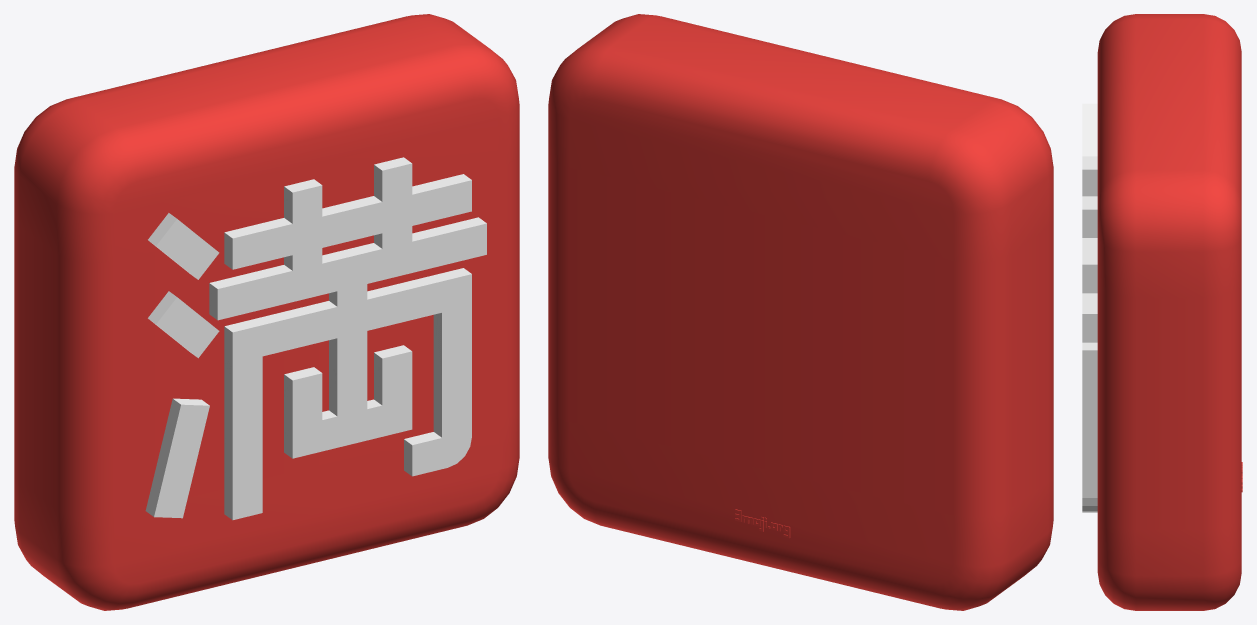
File: japanese_no_vacancy_button.gltf
The picture shows the model from 3 angles, left to right: view 1: azimuth 30°, elevation 25°; view 2: azimuth 150°, elevation 25°; view 3: azimuth 270°, elevation 25°; orthographic projection. The views are drawn at different scales.
Visible parts, largest first — view 1: Cube.6661; view 2: Cube.6661; view 3: Cube.6661.
Part boxes in pixels (<box>): Cube.6661: <box>14,14,519,610</box>; Cube.6661: <box>548,14,1053,610</box>; Cube.6661: <box>1082,14,1242,610</box>.
Size of the model in its own units: 2.2 by 2.2 by 0.7337.
1 material, 1 textured.
